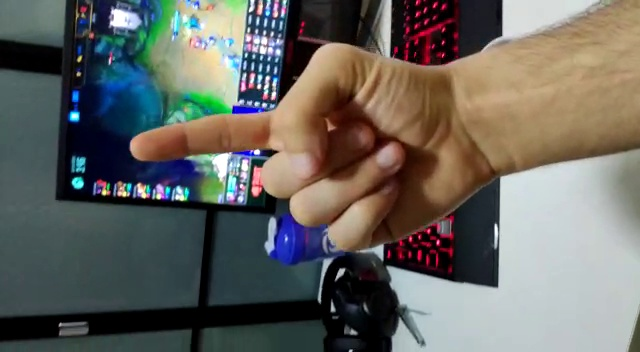One: (118, 101, 375, 177)
